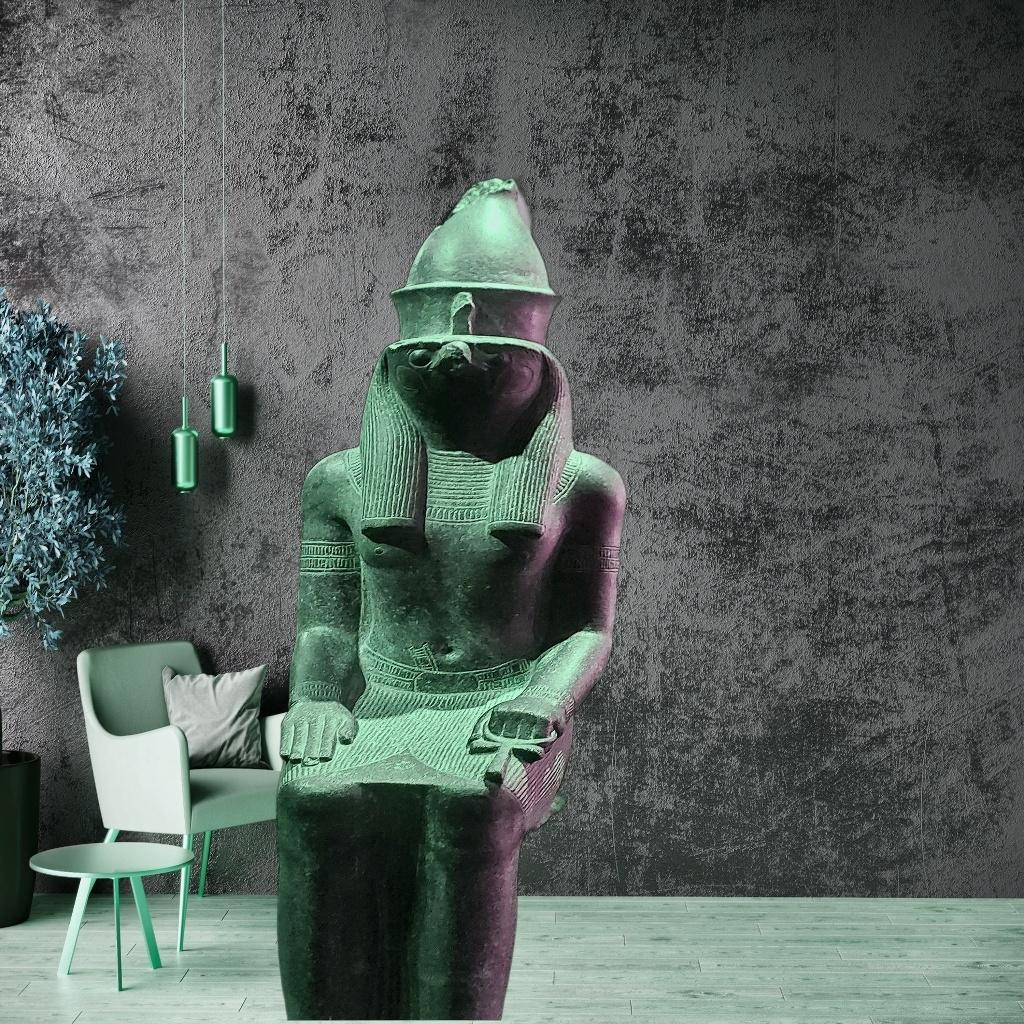Statue of God Ra-Horakhty: (266, 172, 634, 1020)
